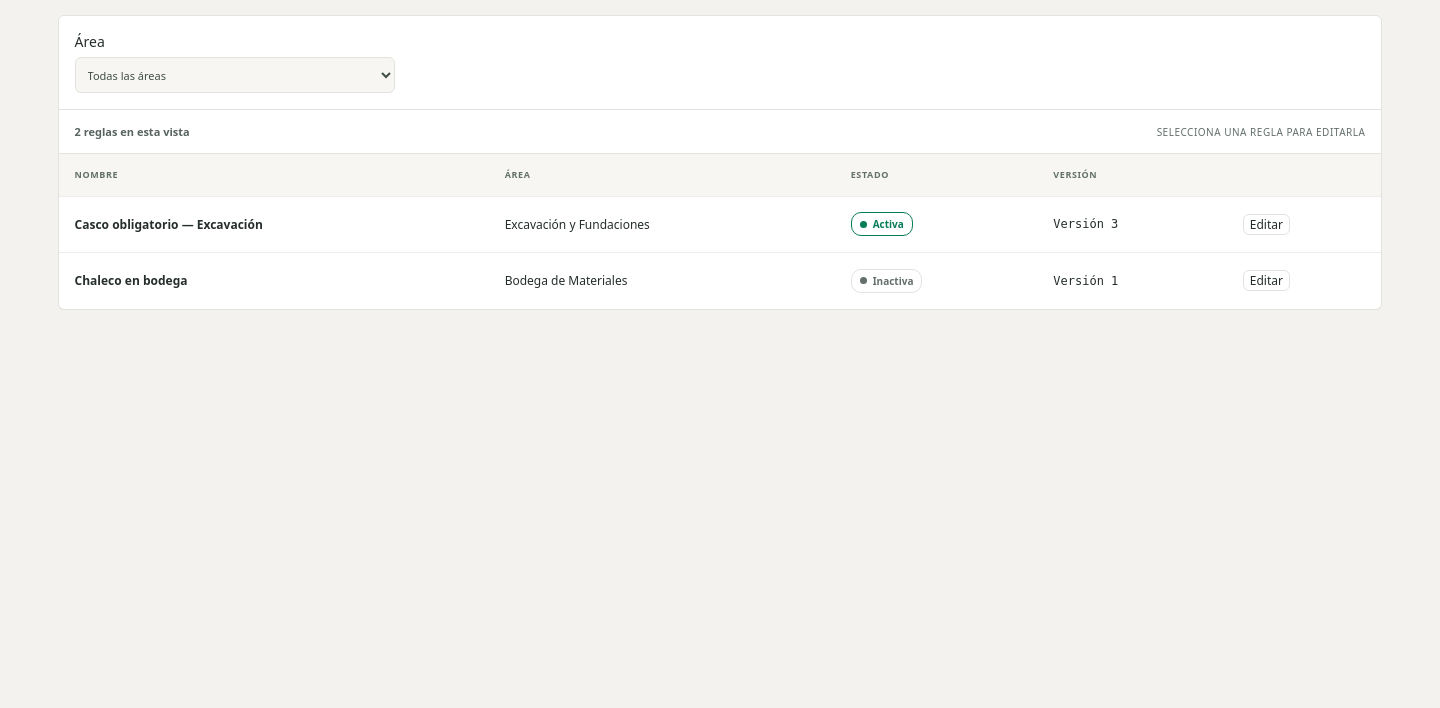
Scenario: limpia el error de guardado al cambiar de regla
Expected: the table named "Listado de reglas de seguridad" is shown, left=59, top=154, right=1381, bottom=308
Click the button "Editar" in the row of "Casco obligatorio — Excavación" at (1266, 224), box left=1243, top=214, right=1290, bottom=235
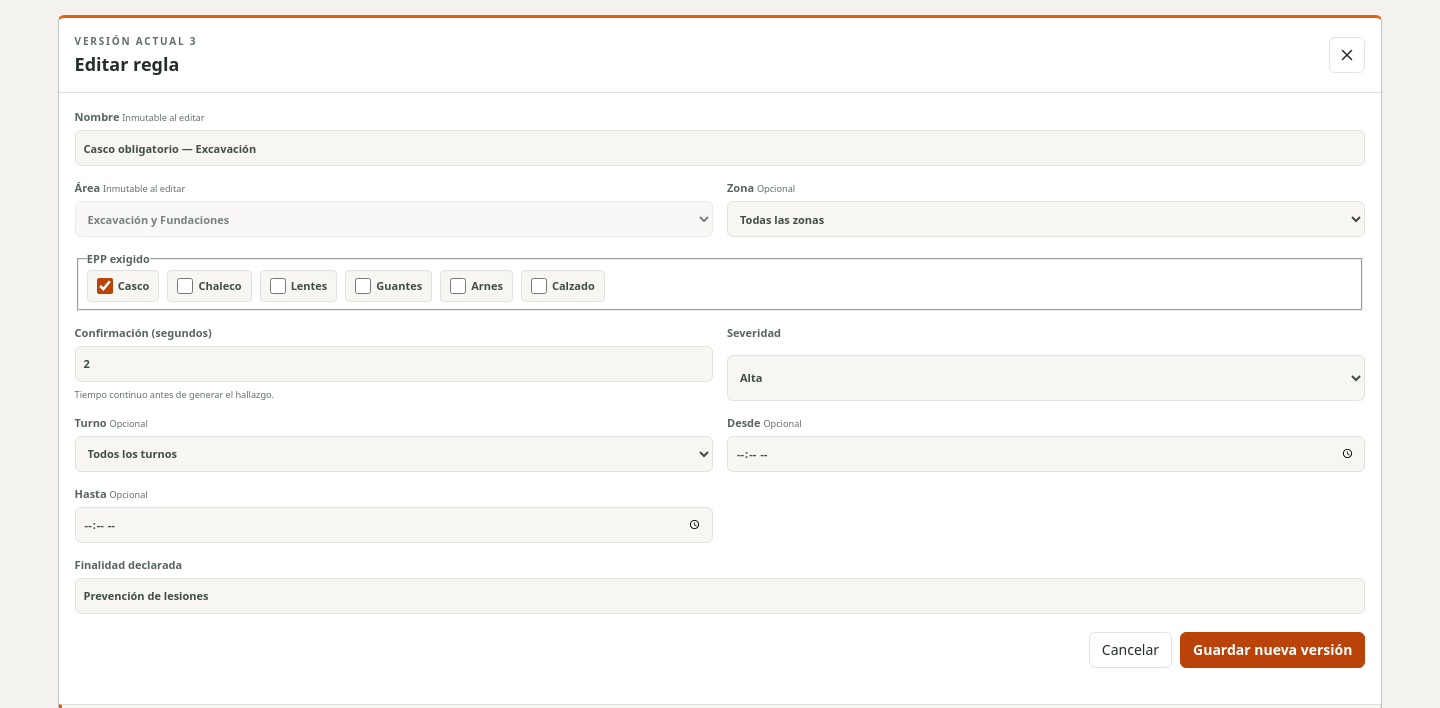
Click the button "Guardar nueva versión" at (1273, 650), box left=1180, top=632, right=1365, bottom=668
(page scrolled)
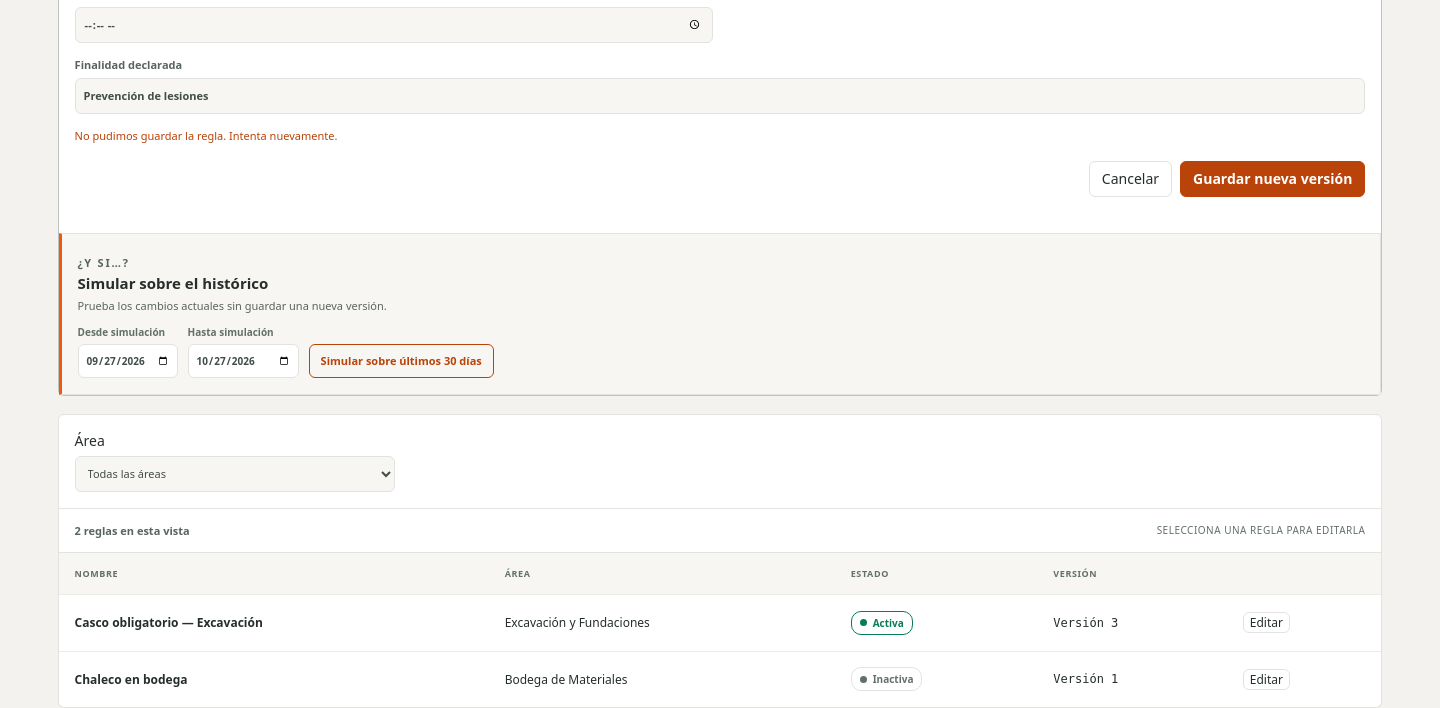
Result: the message shows "No pudimos guardar la regla" at left=75, top=128, right=337, bottom=143
Click the button "Editar" in the row of "Chaleco en bodega" at (1266, 680), box left=1243, top=669, right=1290, bottom=690
(page scrolled)
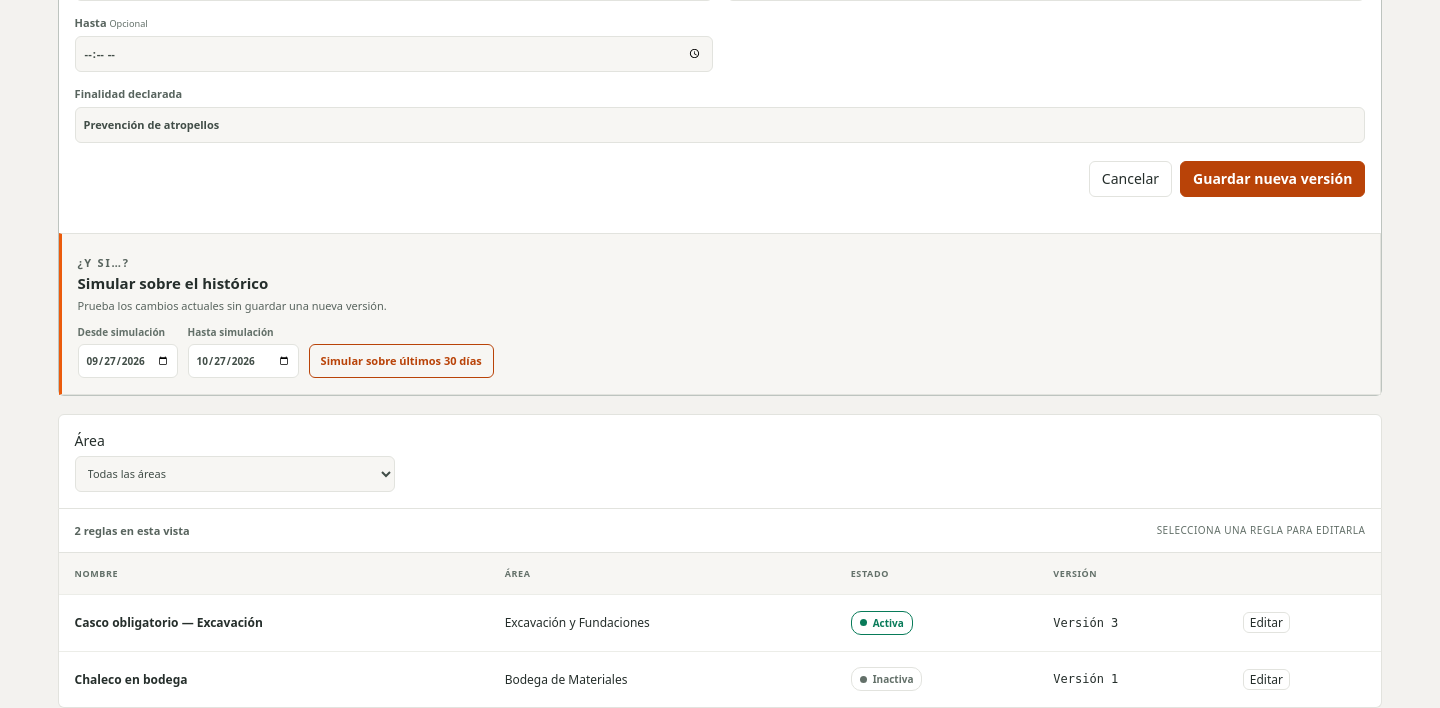
Result: the message "No pudimos guardar la regla. Intenta nuevamente." is gone
